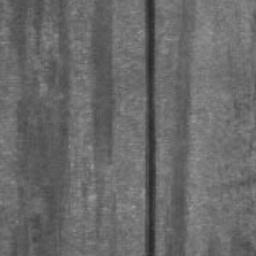Scratches: (145, 0, 156, 256)
